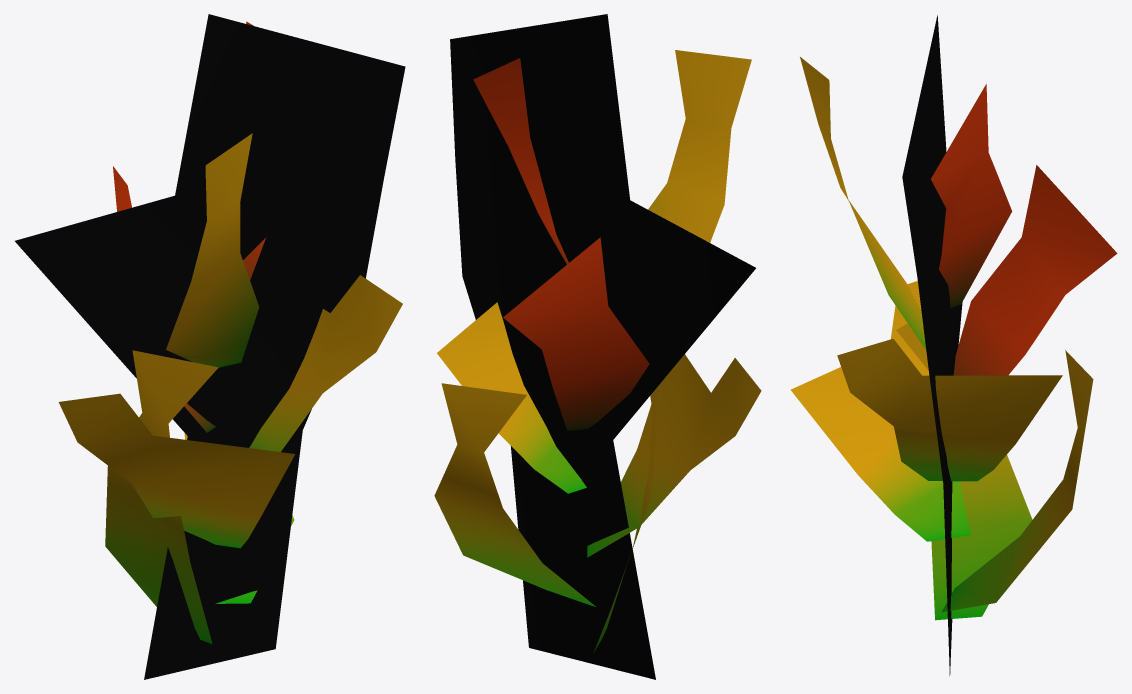
Rendered from Var4Hi39.fbx.
3 views of the same model, side by side, from view 1: azimuth 30°, elevation 25°; view 2: azimuth 150°, elevation 25°; view 3: azimuth 270°, elevation 25° (orthographic). The views are drawn at different scales.
Visible parts, largest first — view 1: bend1; view 2: bend1; view 3: bend1.
Boxes of the visible parts, bbox=[...] form: bend1: bbox=[15, 14, 405, 679]; bend1: bbox=[434, 14, 761, 679]; bend1: bbox=[790, 15, 1117, 675].
Bounding box in the file's own units: 1.3 × 2.33 × 1.09.
